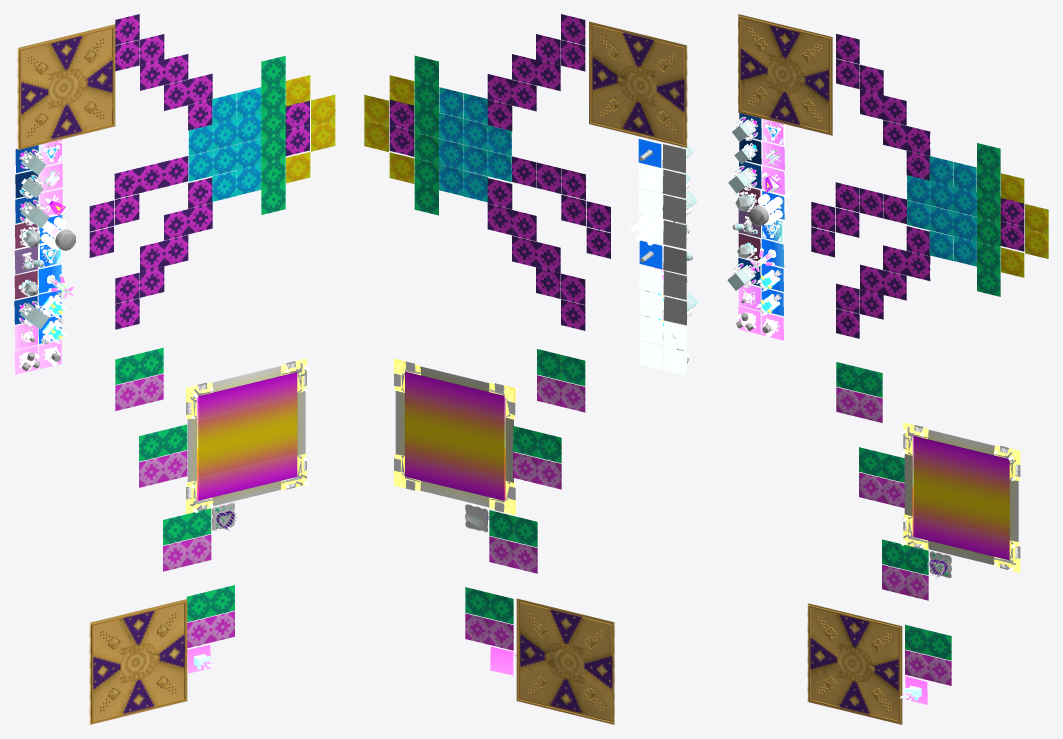
Rendered from Parcel18_Baked.fbx.
3 views of the same model, side by side, from view 1: azimuth 30°, elevation 25°; view 2: azimuth 150°, elevation 25°; view 3: azimuth 330°, elevation 25° (orthographic). The views are drawn at different scales.
Parts seen in each view (by area): view 1: Parcel18_Baked; view 2: Parcel18_Baked; view 3: Parcel18_Baked.
Part boxes in pixels (<box>): Parcel18_Baked: <box>14,14,335,724</box>; Parcel18_Baked: <box>364,14,698,724</box>; Parcel18_Baked: <box>727,14,1048,724</box>.
Size of the model in its own units: 270 by 559 by 44.48.
Materials: 1 (1 with a texture image).
